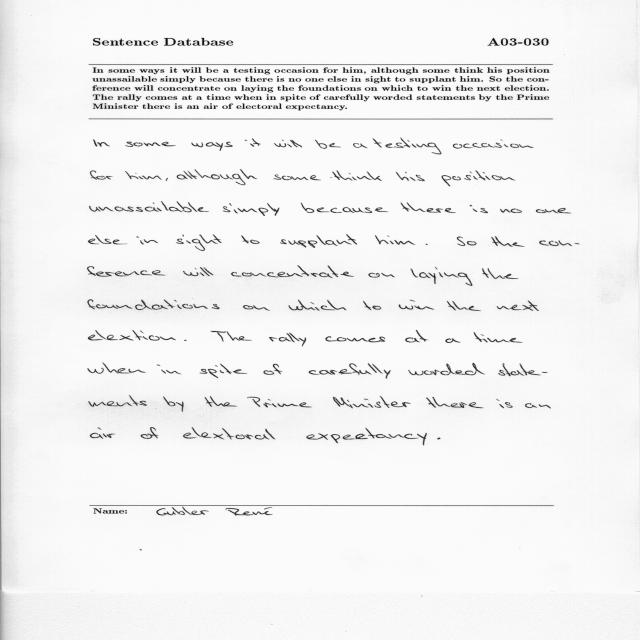word: (306, 428, 427, 446), (231, 266, 354, 278), (308, 363, 391, 379), (88, 300, 219, 310), (177, 170, 257, 185), (89, 202, 209, 212), (442, 171, 516, 187), (411, 267, 473, 286), (183, 428, 276, 440), (373, 138, 442, 154), (280, 234, 357, 248), (88, 330, 176, 341), (333, 396, 411, 408), (408, 363, 485, 375), (301, 203, 389, 213), (88, 266, 166, 277), (453, 139, 534, 149), (176, 234, 222, 251), (223, 203, 280, 216), (88, 395, 147, 407), (200, 364, 248, 378), (498, 364, 548, 377), (247, 397, 312, 407), (289, 300, 347, 311), (88, 363, 146, 374), (426, 397, 483, 408), (401, 202, 457, 213), (330, 170, 382, 181), (474, 332, 523, 343), (269, 333, 306, 347), (497, 300, 539, 311), (210, 331, 252, 342), (375, 235, 415, 245), (482, 268, 518, 279), (89, 235, 128, 245), (191, 142, 233, 151), (492, 236, 525, 247), (205, 396, 238, 407), (325, 337, 385, 343), (399, 300, 434, 310), (447, 301, 481, 311), (125, 171, 162, 180), (163, 396, 183, 412), (273, 175, 321, 181), (405, 331, 428, 343), (91, 428, 116, 439), (183, 267, 213, 276), (396, 172, 425, 181), (125, 142, 176, 147), (315, 140, 341, 149), (274, 140, 302, 148), (91, 170, 113, 180), (157, 365, 181, 374), (141, 427, 159, 439), (264, 364, 283, 375), (539, 241, 580, 246), (457, 236, 477, 246), (137, 236, 158, 245), (536, 208, 571, 213), (241, 235, 260, 244), (243, 305, 270, 311), (363, 301, 381, 310), (525, 403, 551, 409), (496, 399, 513, 408), (245, 138, 261, 147), (470, 205, 488, 213), (94, 139, 110, 147), (368, 273, 395, 277), (500, 209, 522, 213), (353, 143, 368, 148), (446, 338, 461, 343), (437, 438, 441, 440), (166, 178, 168, 181), (425, 244, 428, 245), (184, 340, 186, 341)
